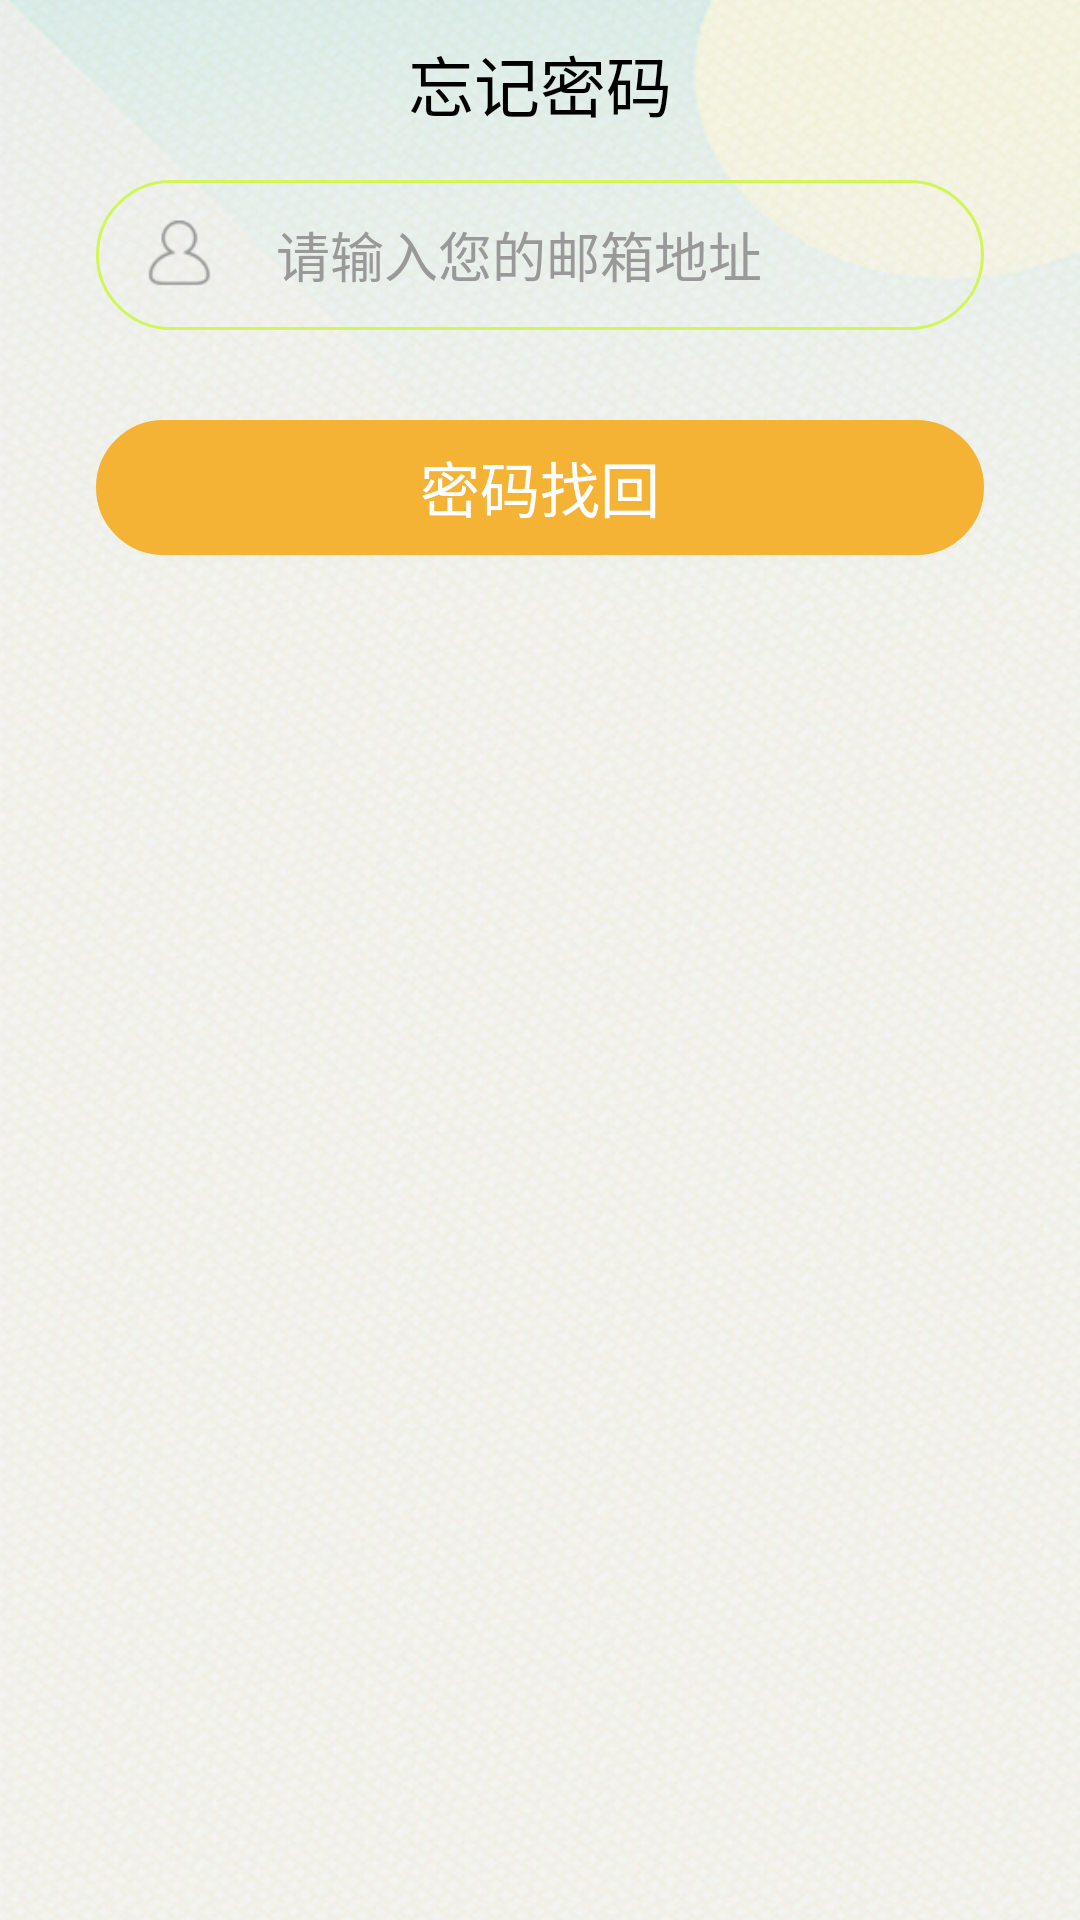

Point at icon controls on the screen. Image size 1080 x 1920, points as (x=x, y=y).
login username: (x=179, y=252)
